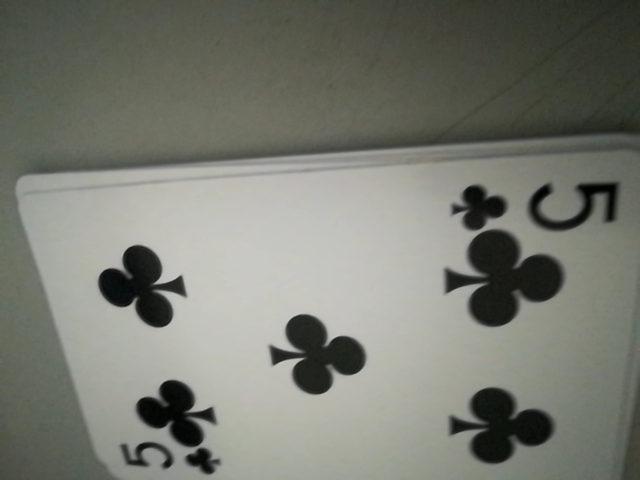mh 5: (447, 168, 619, 237), (112, 436, 223, 478)
